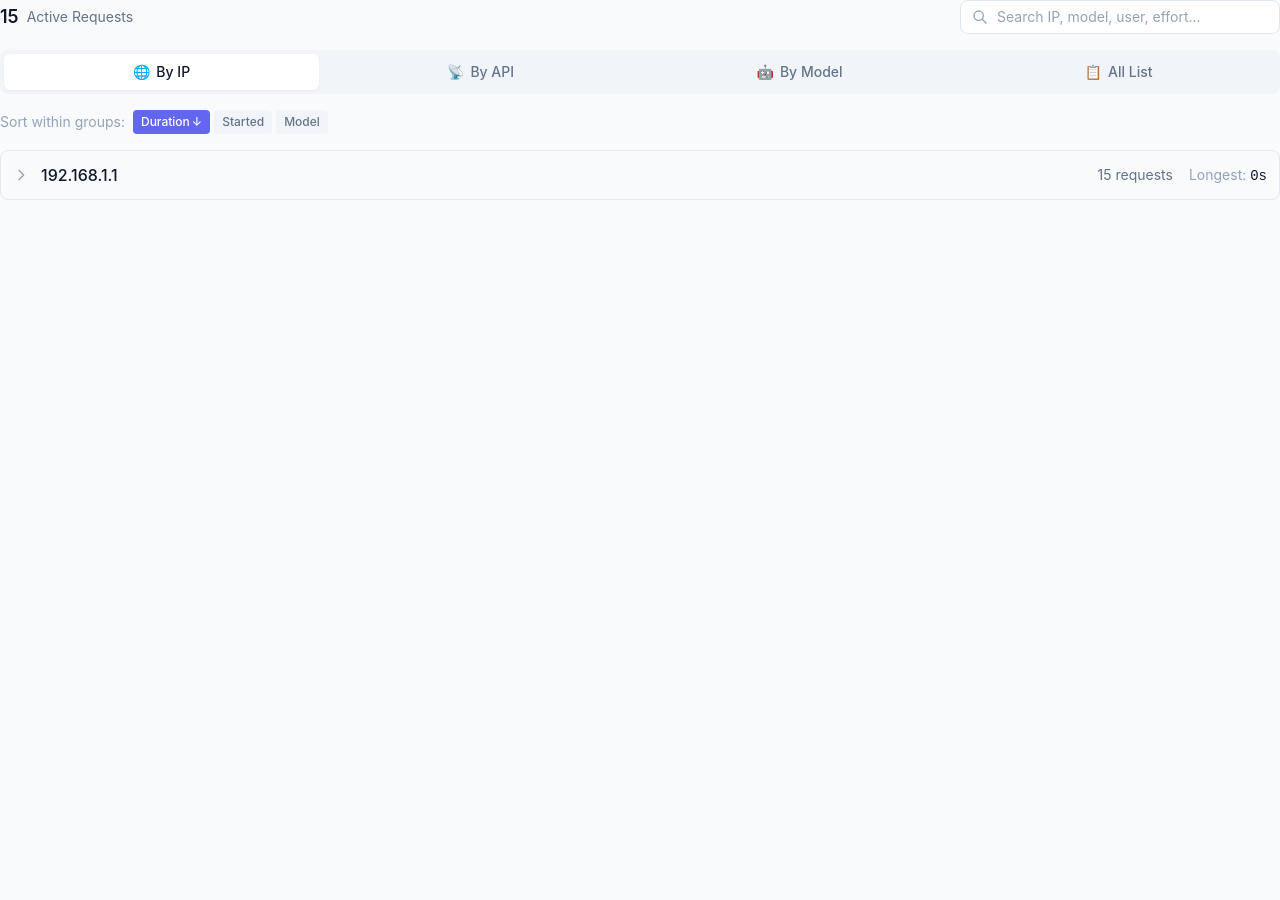
it: LiveRequestsPanel - Sort and Load More › shows Load more button when there are many requests
This screenshot has width=1280, height=900.
Click the text "All List" at (1130,72), box [1108, 62, 1152, 82]
(page scrolled)
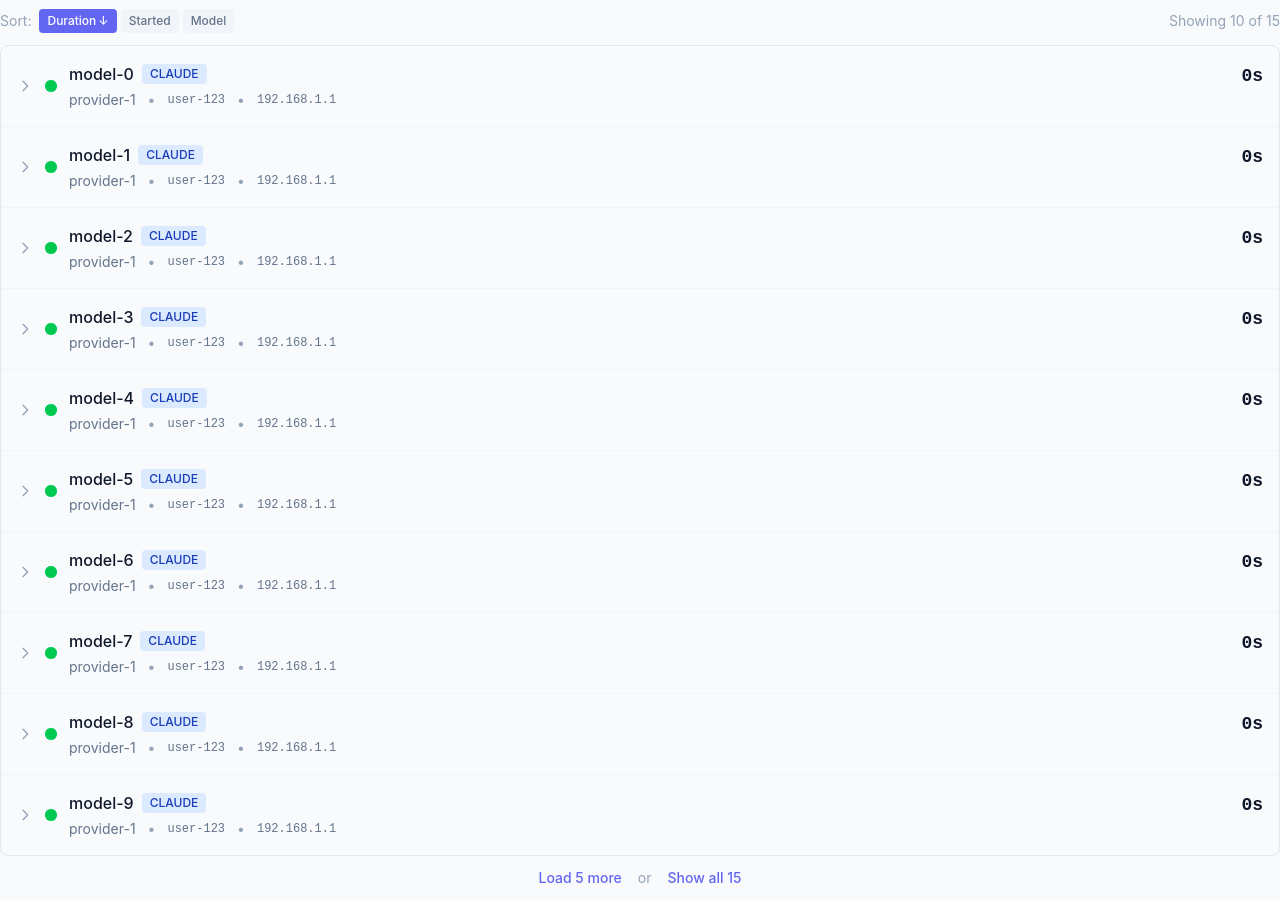
Expected: the text "Showing 10 of 15" is shown, [1169, 11, 1279, 31]
Expected: the button "Load 5 more" is shown, [538, 868, 622, 888]
Expected: the button "Show all 15" is shown, [668, 868, 742, 888]
